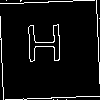H: (24, 24, 65, 71)
